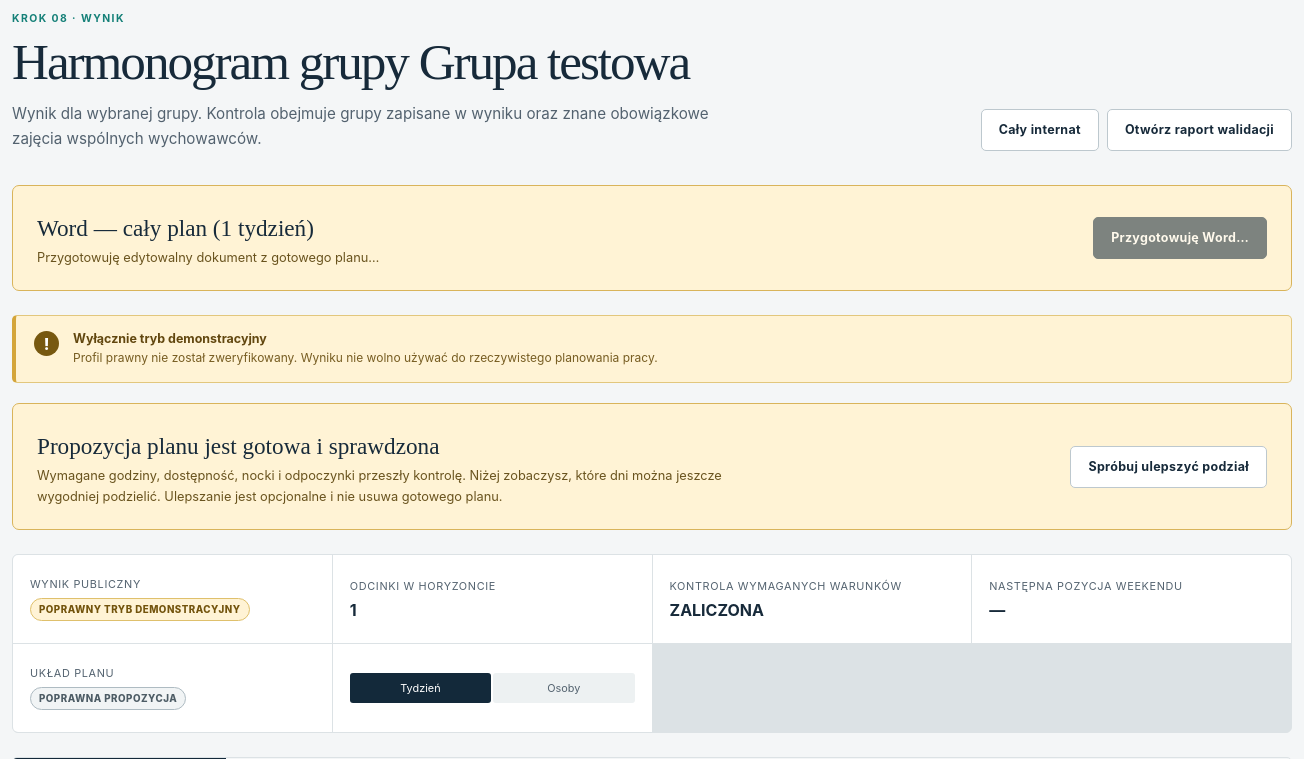
Scenario: poprawny plan przed optymalizacją › zachowuje dobry plan po nieudanej albo gorszej próbie ulepszenia 0
Click the button "Spróbuj ulepszyć podział": click(1169, 467) x1=1070 y1=446 x2=1267 y2=488
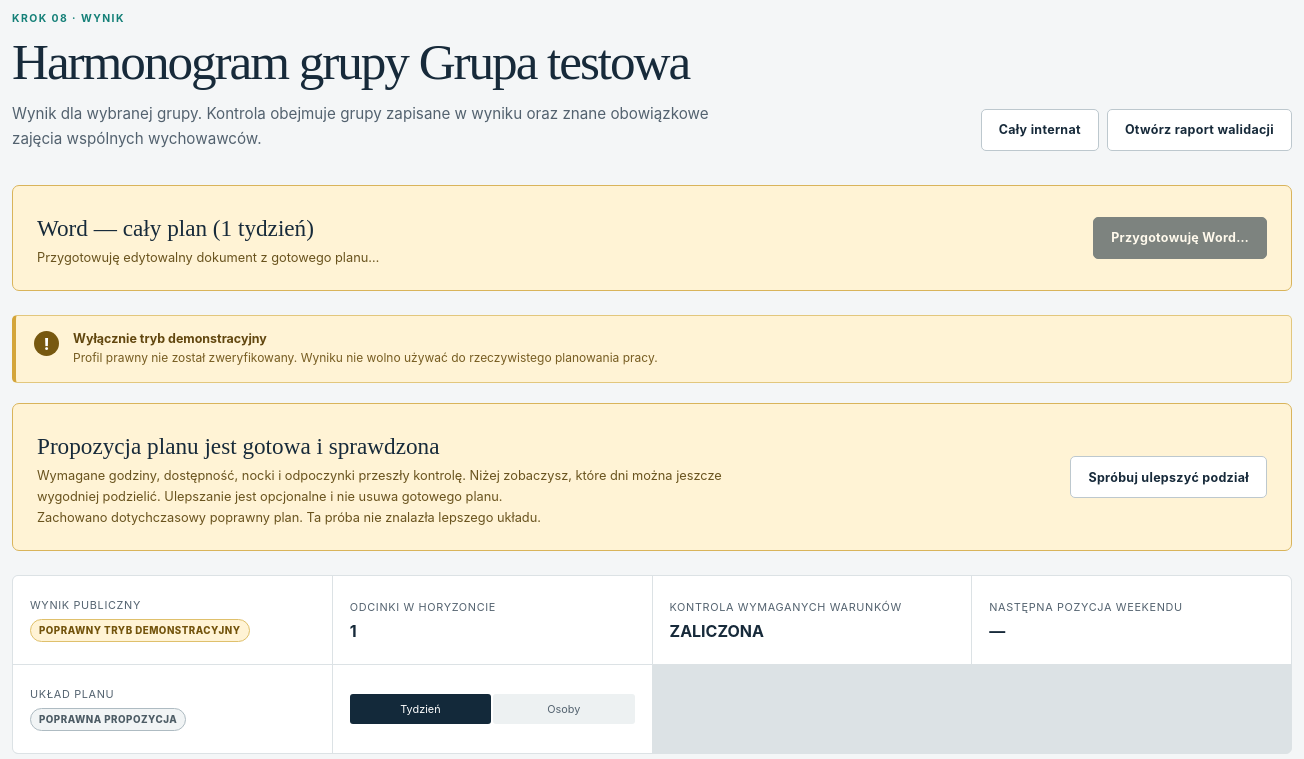
Expected: the heading "Propozycja planu jest gotowa i sprawdzona" is shown, x1=37 y1=433 x2=440 y2=459
Result: the message shows "Zachowano dotychczasowy poprawny plan" at x1=37 y1=510 x2=541 y2=525
